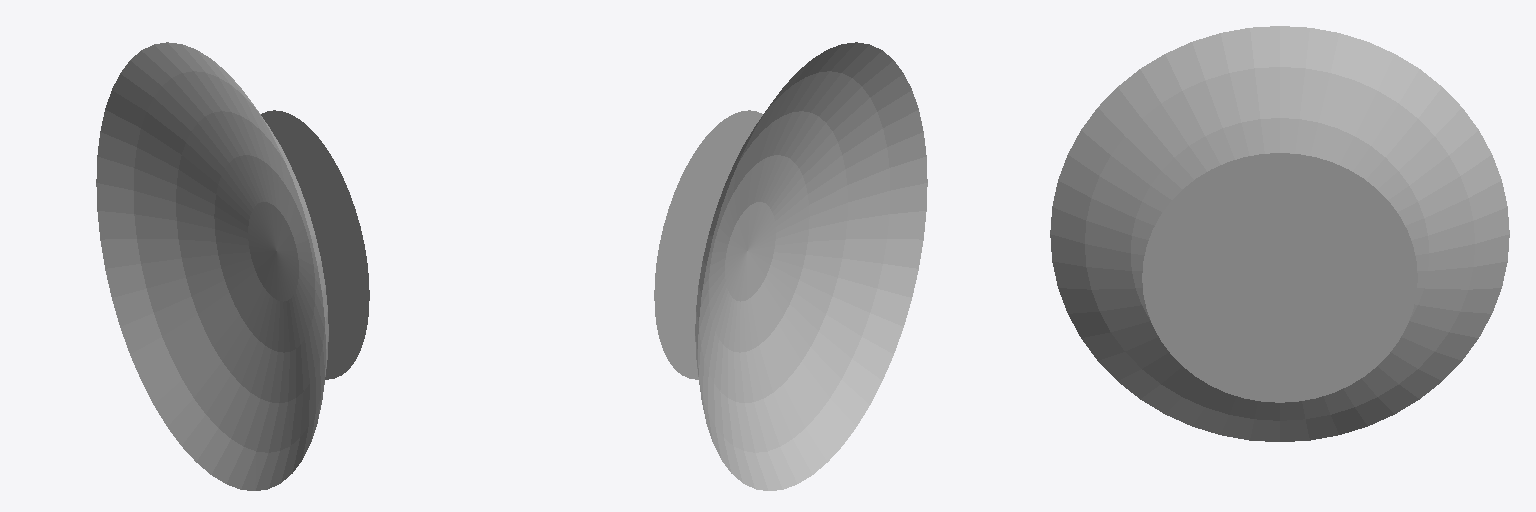
File: disks__19.obj
The picture shows the model from 3 angles: view 1: azimuth 30°, elevation 25°; view 2: azimuth 150°, elevation 25°; view 3: azimuth 270°, elevation 25°; orthographic projection.
Visible parts, largest first — view 1: grp19; view 2: grp19; view 3: grp19.
Part boxes in pixels (bbox=[...]): grp19: bbox=[96, 42, 369, 490]; grp19: bbox=[654, 42, 927, 490]; grp19: bbox=[1050, 26, 1509, 441].
Bounding box in the file's own units: 1.12 × 5 × 5.